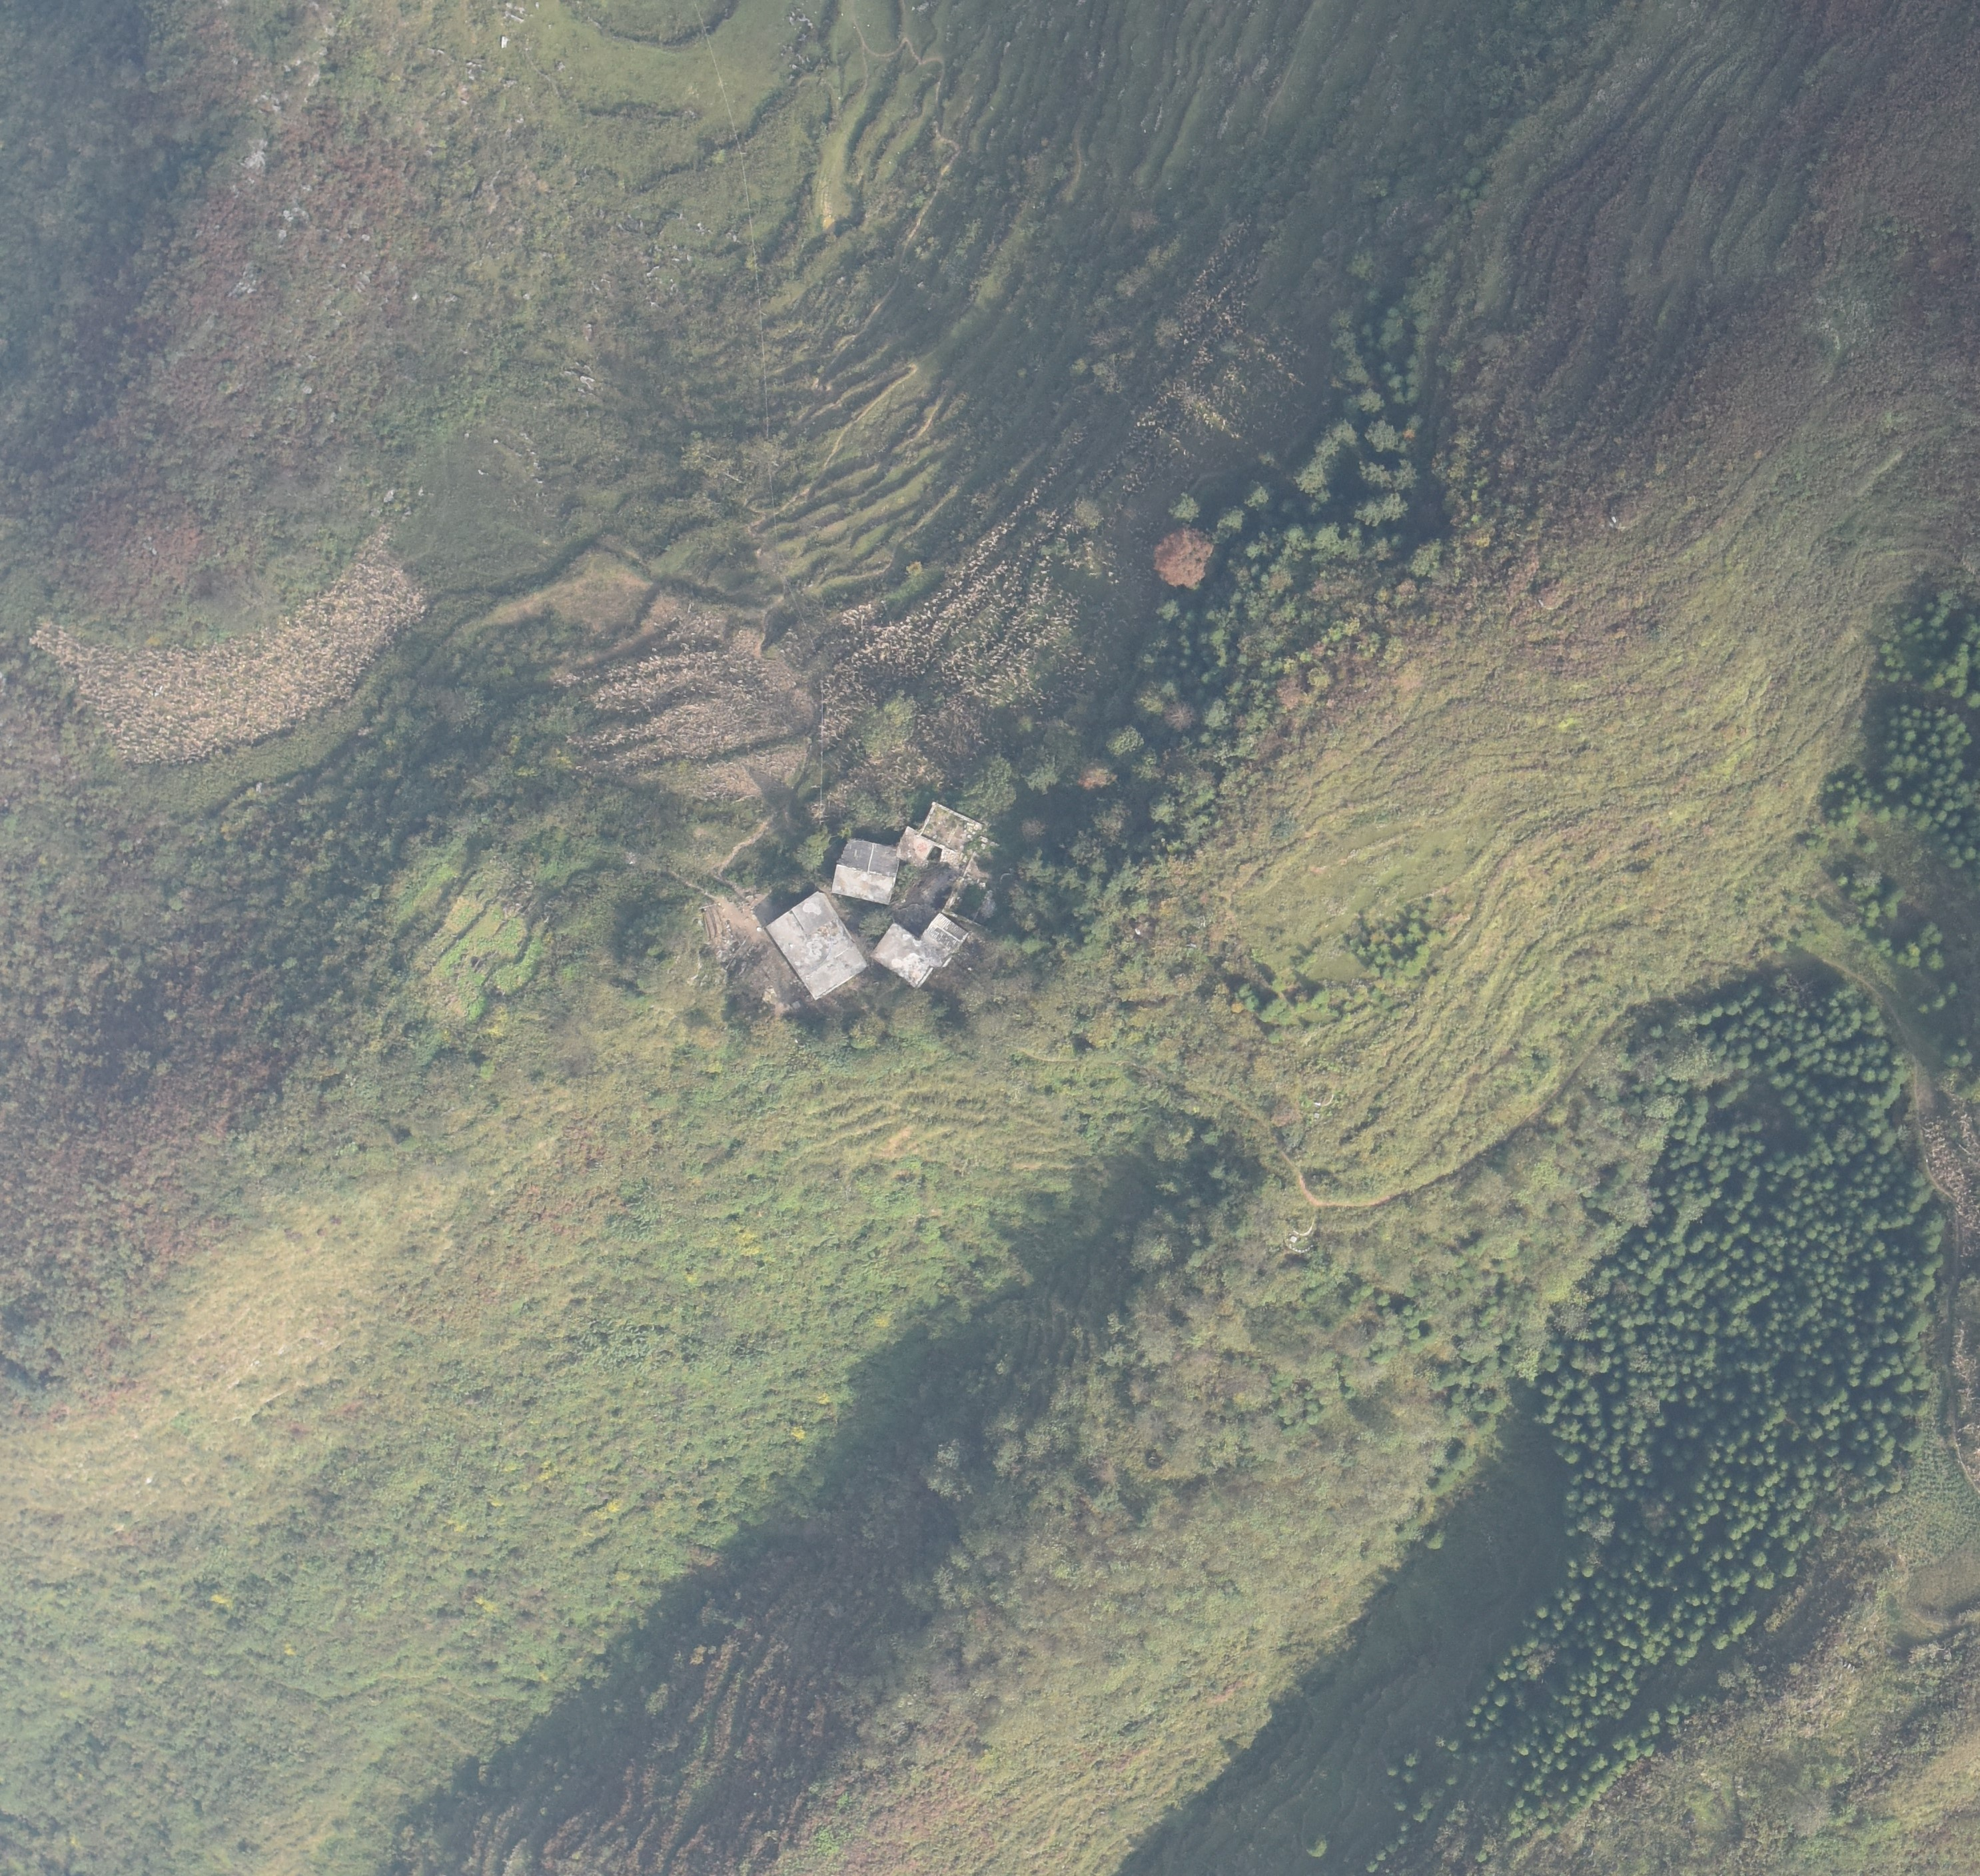building: (763, 887, 867, 1001), (869, 913, 967, 987), (896, 803, 983, 877), (829, 839, 895, 905)
